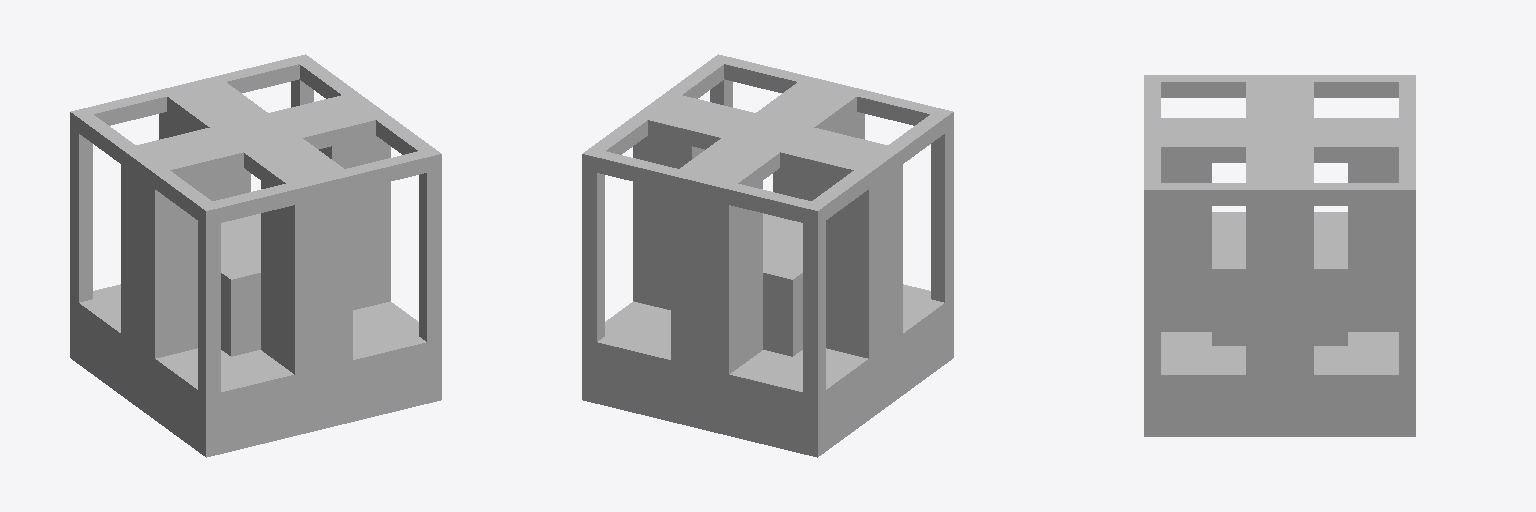
Rendered from void_miner.obj.
The picture shows the model from 3 angles: view 1: azimuth 30°, elevation 25°; view 2: azimuth 150°, elevation 25°; view 3: azimuth 270°, elevation 25°; orthographic projection.
Visible parts, largest first — view 1: Bottom, PanelSouth, PanelWest, TopPanelEW, PanelEast, LaserHead, TopSouth, SouthWest, SouthEast, NorthWest, TopNorth, TopWest (+5 smaller); view 2: Bottom, PanelNorth, PanelWest, TopPanelEW, PanelEast, LaserHead, TopNorth, NorthWest, NorthEast, SouthWest, TopSouth, TopWest (+5 smaller); view 3: Bottom, PanelEast, LaserHead, PanelNorth, PanelSouth, TopPanelEW, TopEast, TopWest, TopPanelN, TopPanelW, SouthEast, NorthEast (+2 smaller).
Boxes of the visible parts, box(x1,y1,x2,y2) form: Bottom: box(70, 284, 441, 457); PanelSouth: box(261, 181, 352, 374); PanelWest: box(121, 165, 213, 358); TopPanelEW: box(136, 95, 375, 181); PanelEast: box(319, 136, 390, 309); LaserHead: box(221, 213, 260, 356); TopSouth: box(213, 151, 426, 222); SouthWest: box(198, 201, 220, 395); SouthEast: box(419, 148, 441, 341); NorthWest: box(70, 108, 92, 302); TopNorth: box(85, 58, 299, 125); TopWest: box(79, 114, 211, 219); Bottom: box(582, 284, 953, 457); PanelNorth: box(671, 181, 762, 374); PanelWest: box(810, 165, 902, 358); TopPanelEW: box(648, 95, 887, 181); PanelEast: box(633, 136, 704, 309); LaserHead: box(763, 213, 802, 356); TopNorth: box(597, 151, 810, 222); NorthWest: box(803, 201, 825, 395); NorthEast: box(582, 148, 604, 341); SouthWest: box(931, 108, 953, 302); TopSouth: box(724, 58, 938, 125); TopWest: box(812, 114, 944, 219); Bottom: box(1144, 332, 1415, 436); PanelEast: box(1246, 206, 1313, 374); LaserHead: box(1212, 212, 1347, 345); PanelNorth: box(1348, 163, 1398, 331); PanelSouth: box(1161, 163, 1211, 331); TopPanelEW: box(1246, 82, 1313, 182); TopEast: box(1161, 183, 1398, 205); TopWest: box(1161, 75, 1398, 97); TopPanelN: box(1314, 118, 1398, 162); TopPanelW: box(1161, 118, 1245, 162); SouthEast: box(1144, 183, 1160, 374); NorthEast: box(1399, 183, 1415, 374).
Bounding box in the file's own units: 1 × 1 × 1.